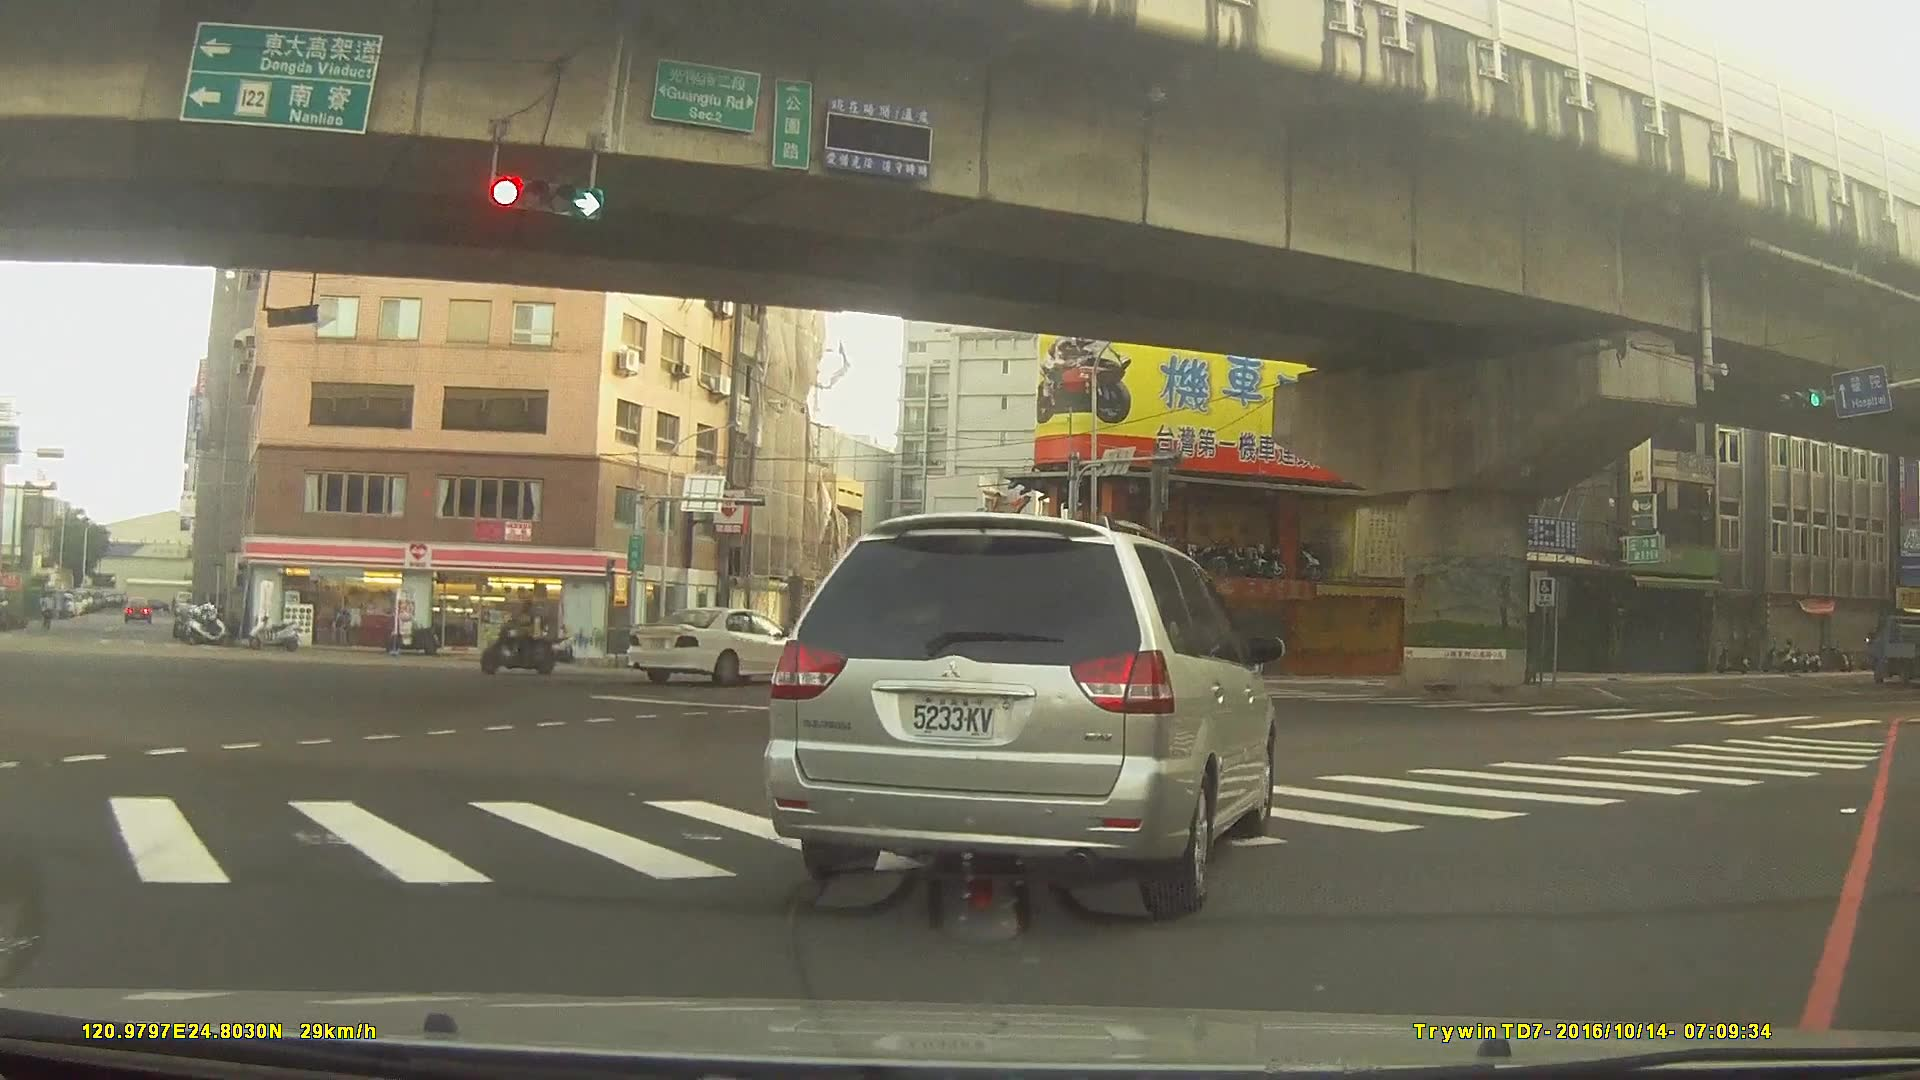rider: (481, 599, 557, 676)
vehicle: (757, 509, 1276, 916), (626, 604, 812, 681), (1866, 615, 1920, 684), (810, 634, 883, 676), (120, 597, 151, 624)
